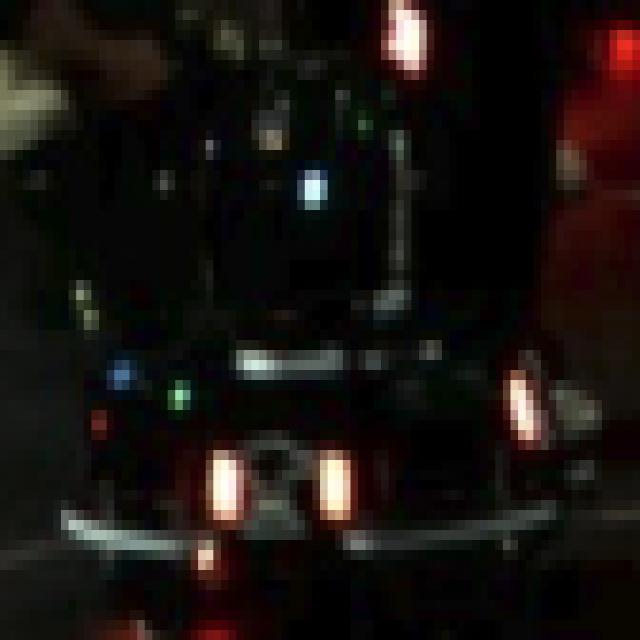Rs: (213, 430, 343, 540)
